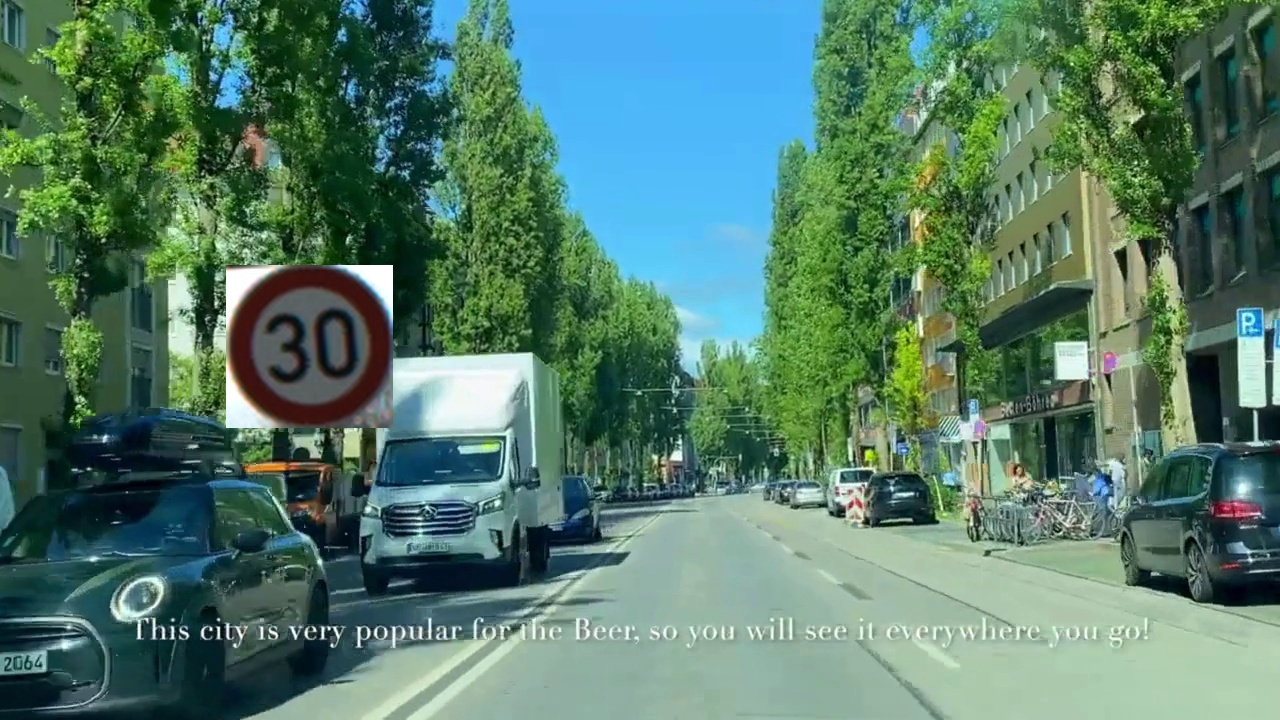Speed 30: (226, 265, 393, 428)
